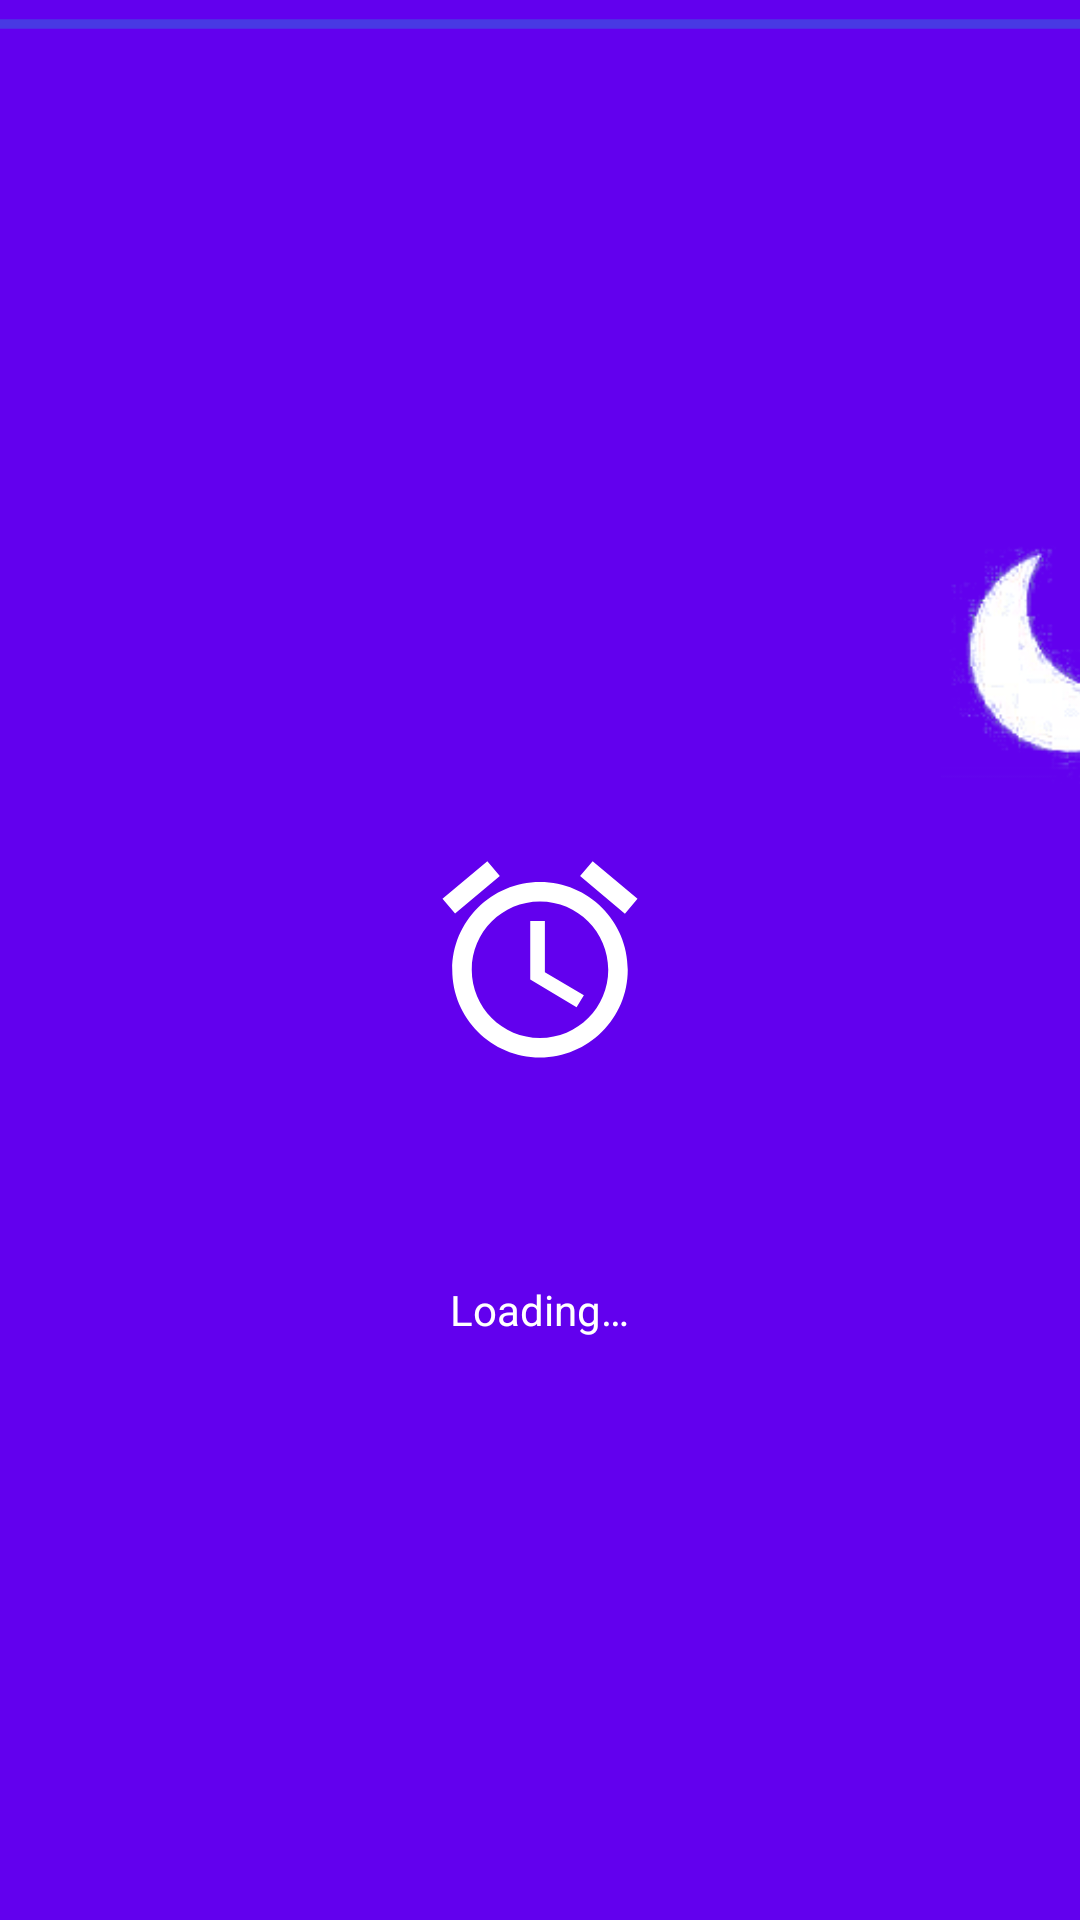

Icons on this 1080x1920 Android screen, each with the point to tap as (x=x, y=y):
access alarm: (x=540, y=959)
